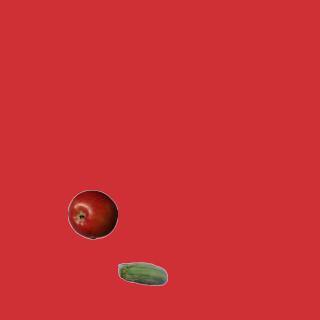Apple Braeburn: (67, 189, 117, 239)
Corn Husk: (117, 250, 167, 300)
